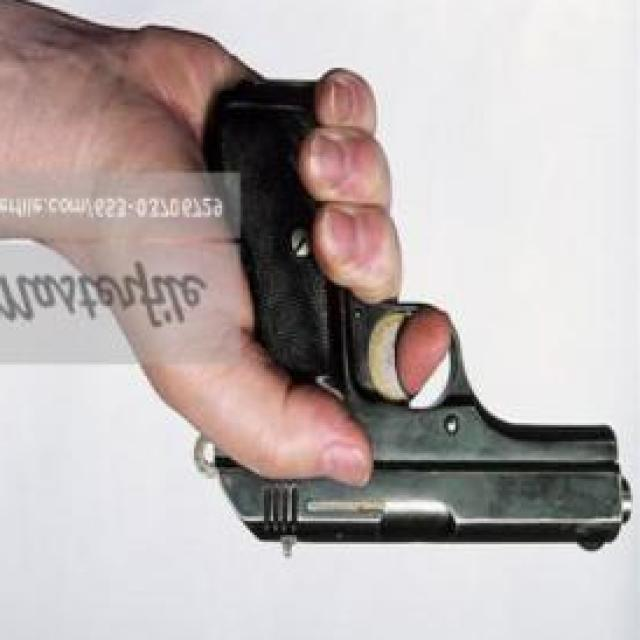pistol: (154, 85, 630, 566)
